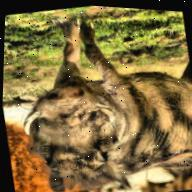boar: (4, 5, 192, 192)
